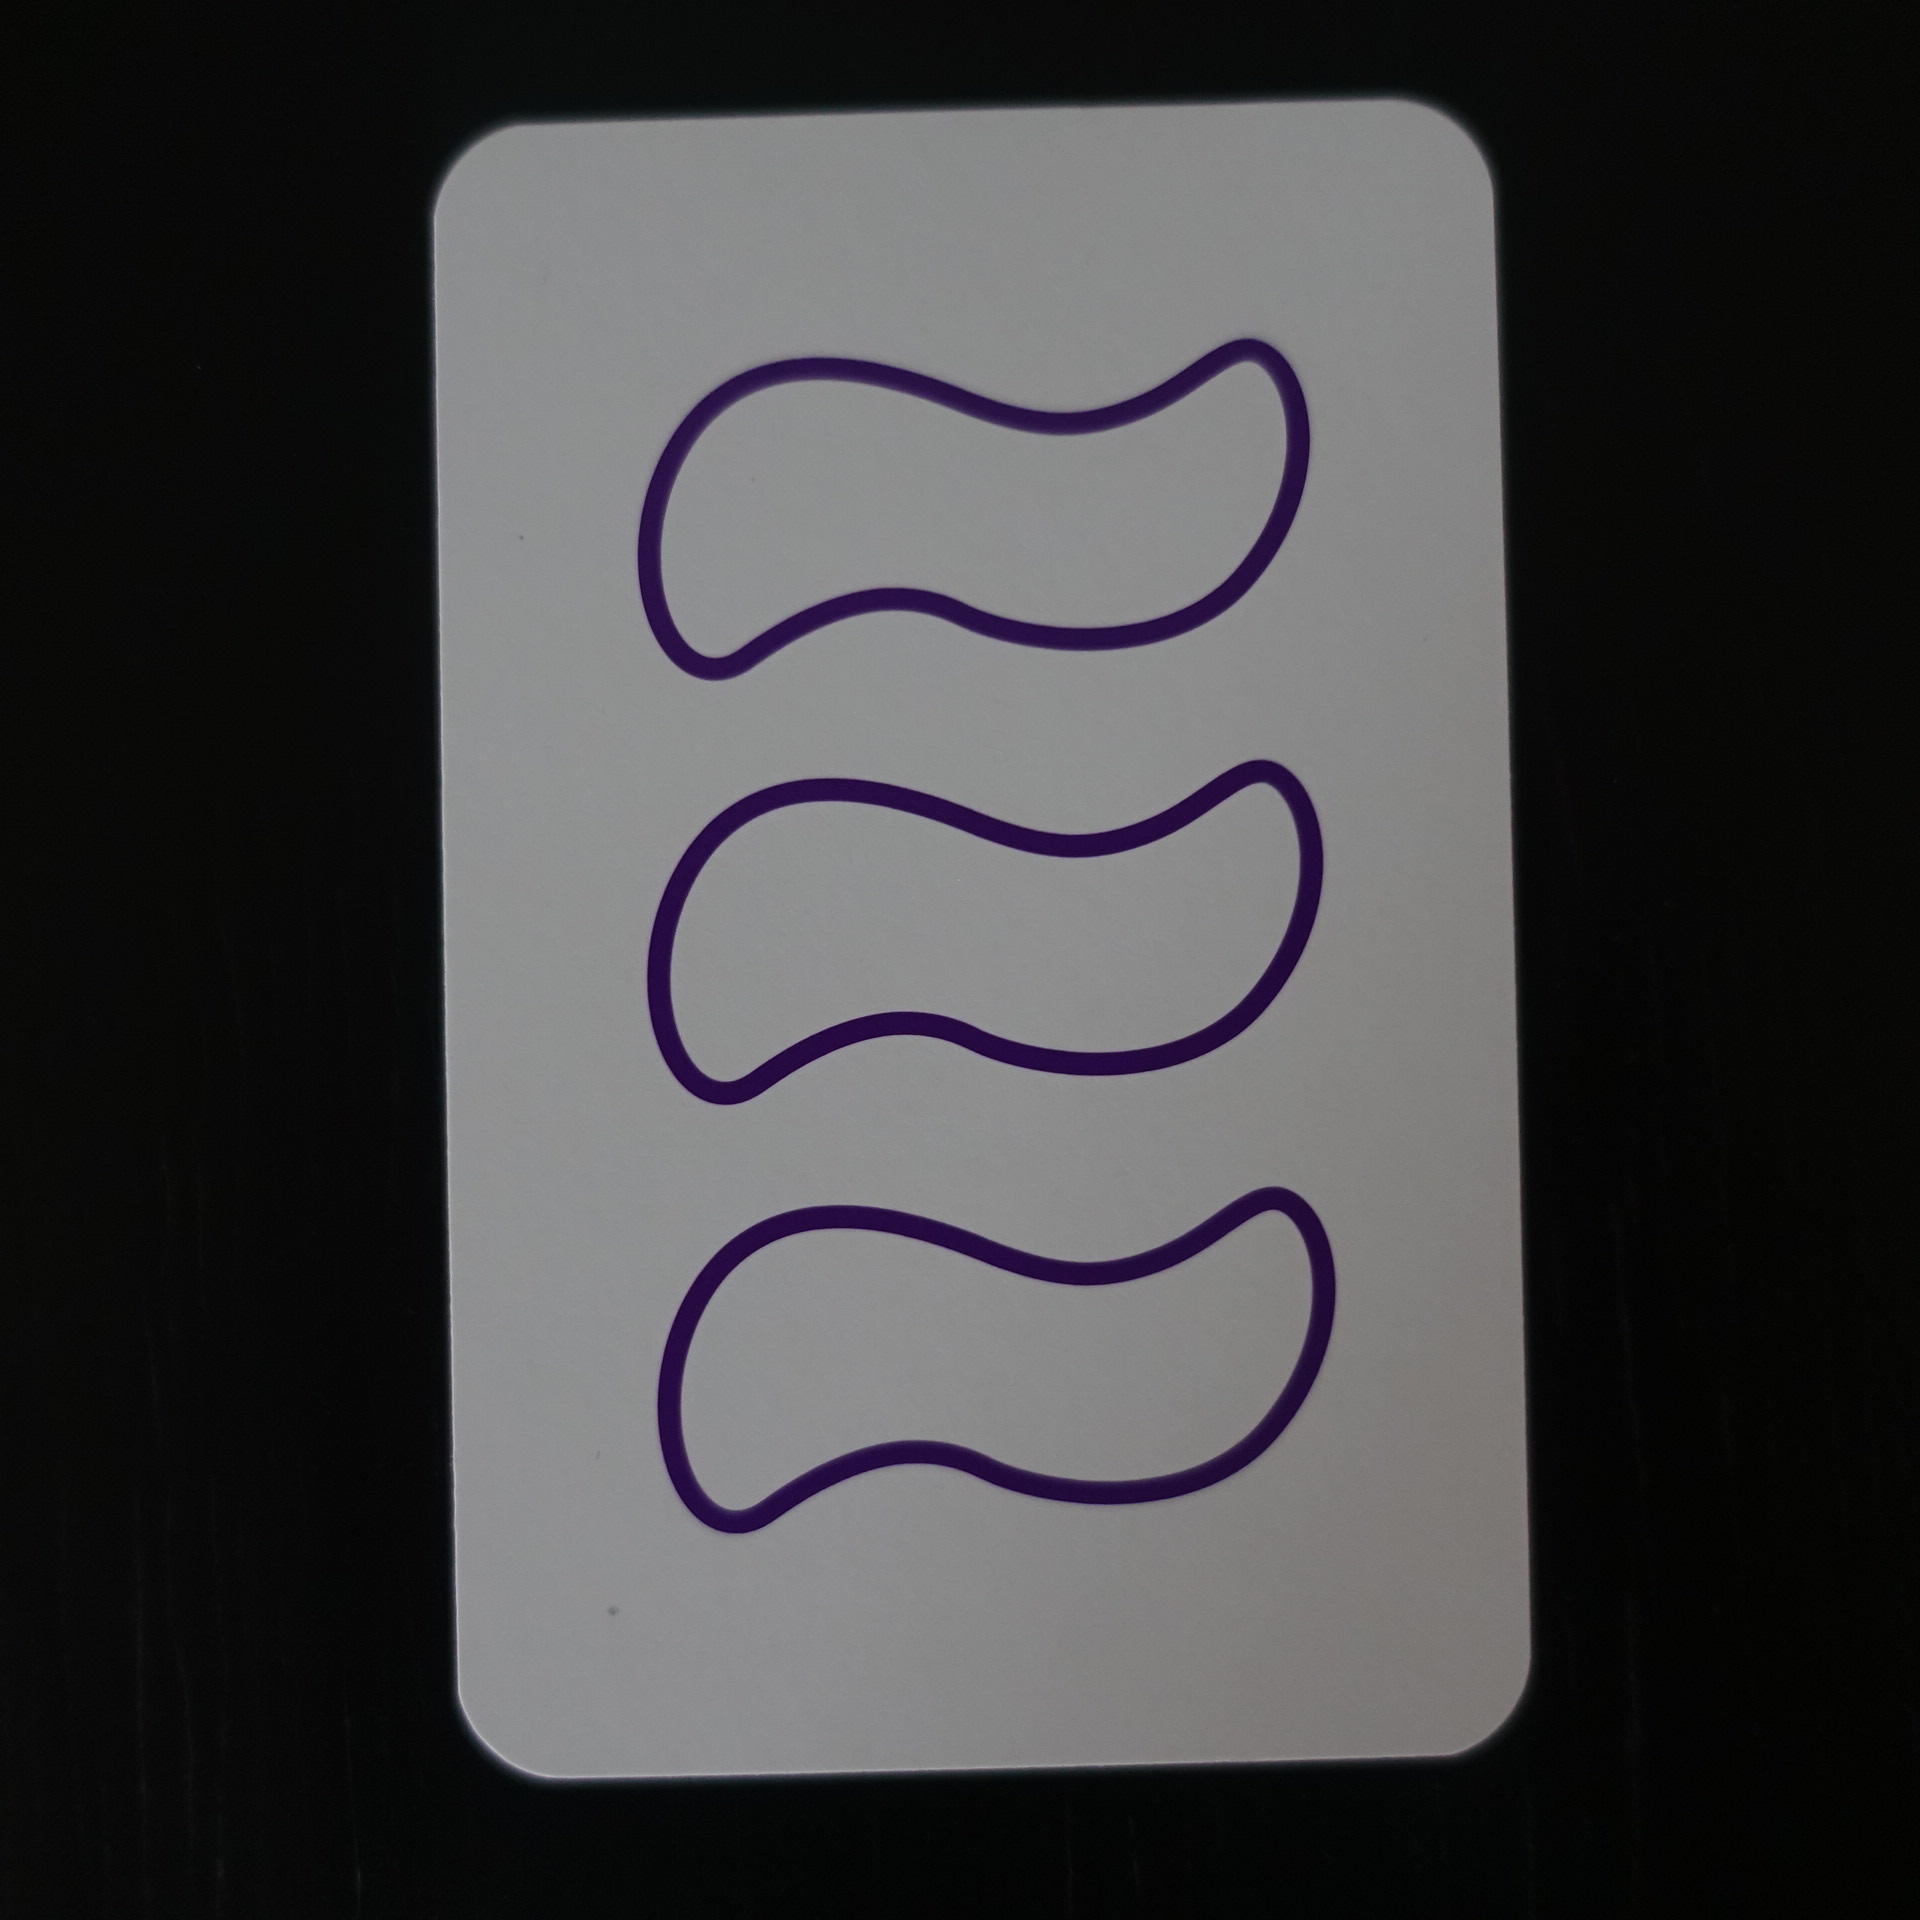c-2-f-d-r: (396, 90, 1586, 1809)
